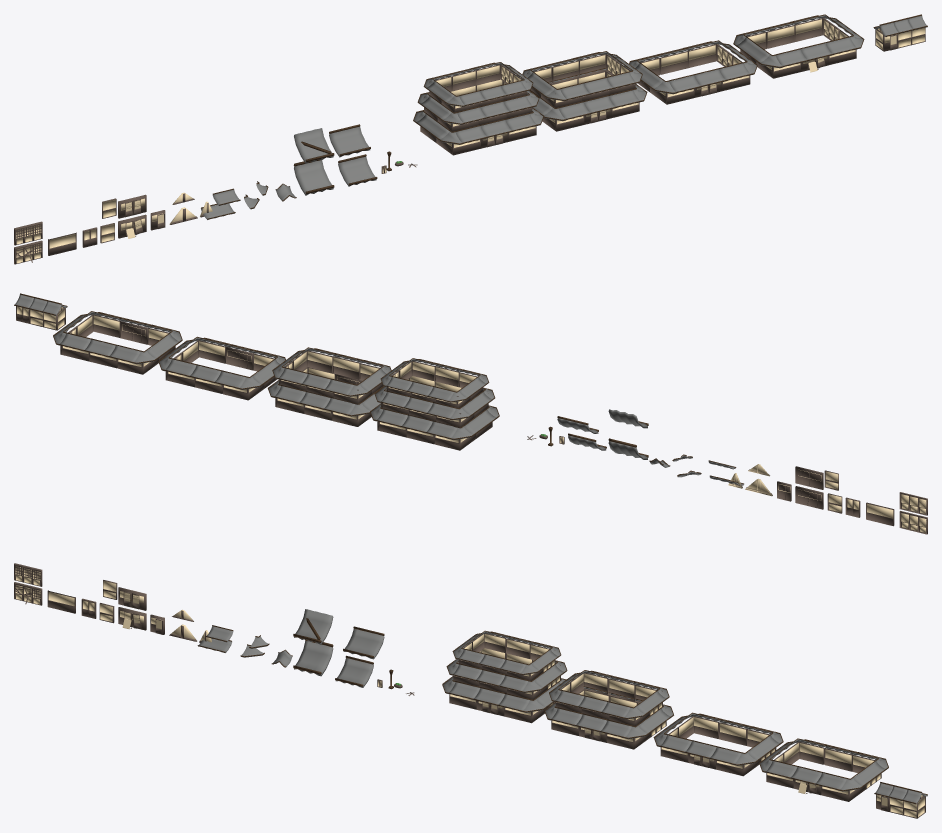
File: Modulos_Casa_Japonesa.fbx
3 views of the same model, one above another, from view 1: azimuth 30°, elevation 25°; view 2: azimuth 150°, elevation 25°; view 3: azimuth 330°, elevation 25° (orthographic).
Visible parts, largest first — view 1: Modulo teto topo, Modulo teto topo Quebrada, Modulo teto topo 2 variacao, Modulo teto topo 2, Modulo Porta Quebrada, Modulo parede 3.032, Modulo Parede Quebrada, Modulo Porta, Modulo Parede 2; view 2: Modulo Parede 2, Modulo Porta, Modulo Parede Quebrada, Modulo Porta Quebrada, Modulo Porta Quebrada.001, Modulo parede 3, Modulo parede 3.017; view 3: Modulo teto topo, Modulo teto topo Quebrada, Modulo teto topo 2 variacao, Modulo teto topo 2, Modulo Porta Quebrada.
Boxes of the visible parts, left/top/right/bottom form: Modulo teto topo: left=293, top=159, right=334, bottom=195; Modulo teto topo Quebrada: left=294, top=128, right=334, bottom=163; Modulo teto topo 2 variacao: left=329, top=124, right=370, bottom=157; Modulo teto topo 2: left=338, top=154, right=377, bottom=186; Modulo Porta Quebrada: left=118, top=214, right=146, bottom=238; Modulo parede 3.032: left=794, top=18, right=823, bottom=41; Modulo Parede Quebrada: left=14, top=240, right=42, bottom=264; Modulo Porta: left=118, top=194, right=146, bottom=218; Modulo Parede 2: left=14, top=221, right=42, bottom=245; Modulo Parede 2: left=899, top=492, right=927, bottom=515; Modulo Porta: left=795, top=466, right=823, bottom=489; Modulo Parede Quebrada: left=899, top=511, right=927, bottom=534; Modulo Porta Quebrada: left=795, top=486, right=823, bottom=509; Modulo Porta Quebrada.001: left=120, top=321, right=148, bottom=344; Modulo parede 3: left=866, top=502, right=894, bottom=526; Modulo parede 3.017: left=332, top=356, right=360, bottom=379; Modulo teto topo: left=293, top=639, right=333, bottom=676; Modulo teto topo Quebrada: left=293, top=609, right=333, bottom=644; Modulo teto topo 2 variacao: left=343, top=626, right=384, bottom=659; Modulo teto topo 2: left=335, top=655, right=373, bottom=687; Modulo Porta Quebrada: left=118, top=607, right=146, bottom=630.
Size of the model in its own units: 12.2 by 144 by 8.51.
